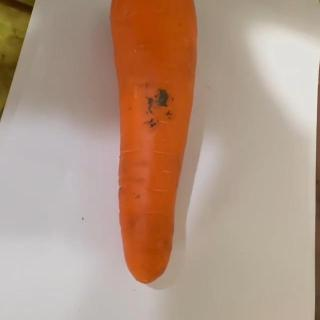carrot: (108, 0, 198, 284)
